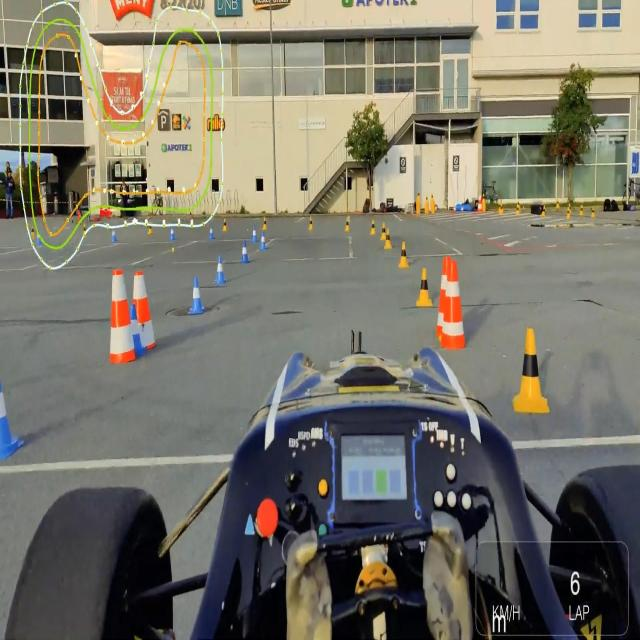blue_cone: (0, 365, 22, 463), (188, 275, 206, 316), (129, 304, 142, 355), (213, 254, 228, 287), (240, 237, 250, 266), (260, 232, 267, 252), (251, 224, 257, 242), (36, 228, 42, 245), (169, 225, 174, 244), (210, 224, 214, 239), (112, 227, 116, 242)
large_orange_cone: (108, 266, 130, 362), (442, 264, 464, 349), (139, 270, 156, 348), (437, 255, 450, 331), (478, 194, 482, 214)
yellow_cone: (513, 324, 550, 417), (416, 266, 434, 309), (440, 286, 456, 333), (398, 239, 410, 268), (384, 228, 393, 250), (369, 218, 377, 236), (380, 222, 386, 240), (222, 218, 228, 232), (262, 216, 267, 232), (148, 220, 153, 236), (82, 221, 87, 237), (30, 225, 35, 241), (308, 218, 314, 230), (345, 218, 350, 232)
